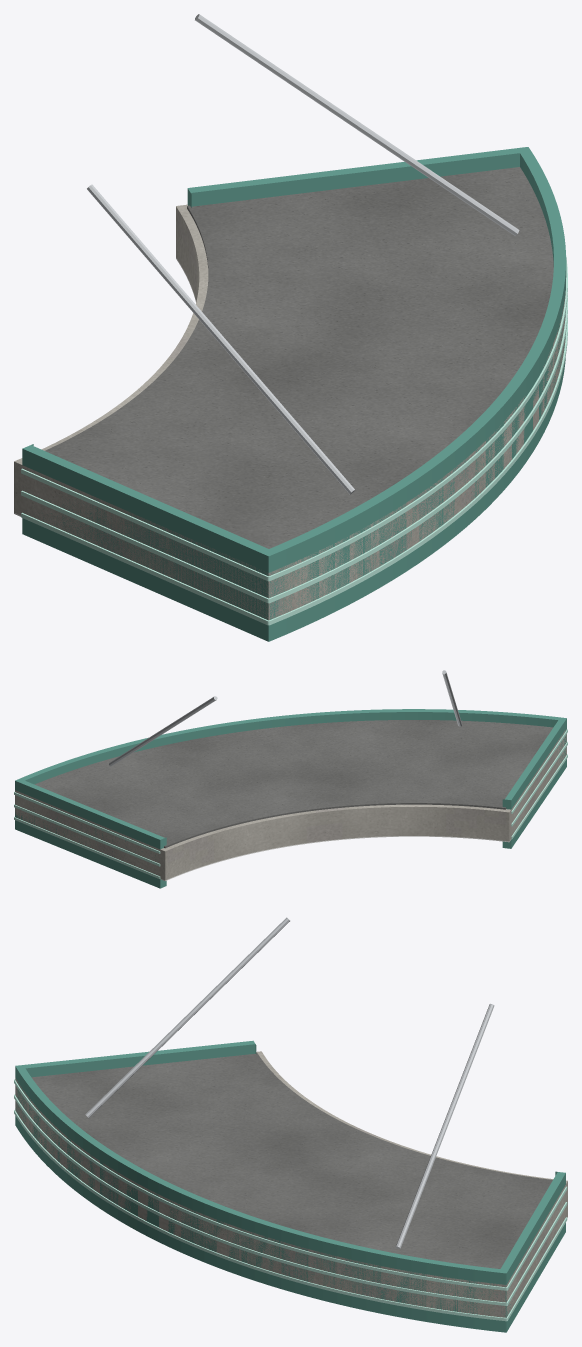
Rendered from marquee.glb.
The picture shows the model from 3 angles, top to bottom: view 1: azimuth 30°, elevation 25°; view 2: azimuth 150°, elevation 25°; view 3: azimuth 270°, elevation 25°; orthographic projection. The views are drawn at different scales.
Visible parts, largest first — view 1: marquee_membrane, marquee_trim_g, marquee_concrete, marquee_neon, marquee_steel; view 2: marquee_membrane, marquee_concrete, marquee_trim_g, marquee_neon, marquee_steel, marquee_ceil; view 3: marquee_membrane, marquee_trim_g, marquee_concrete, marquee_neon, marquee_steel.
Boxes of the visible parts, x1,y1,x2,y2 form: marquee_membrane: [45, 167, 553, 548]; marquee_trim_g: [22, 147, 566, 641]; marquee_concrete: [14, 204, 565, 620]; marquee_neon: [21, 255, 567, 625]; marquee_steel: [87, 14, 519, 494]; marquee_membrane: [34, 720, 553, 848]; marquee_concrete: [15, 729, 566, 880]; marquee_trim_g: [15, 709, 566, 888]; marquee_neon: [14, 729, 567, 878]; marquee_steel: [109, 670, 462, 766]; marquee_ceil: [160, 836, 511, 881]; marquee_membrane: [31, 1052, 552, 1268]; marquee_trim_g: [15, 1040, 565, 1332]; marquee_concrete: [15, 1051, 567, 1317]; marquee_neon: [14, 1079, 567, 1321]; marquee_steel: [85, 917, 494, 1249].
Size of the model in its own units: 5.26 by 2.24 by 5.26.
Materials: 7 (2 with a texture image).
